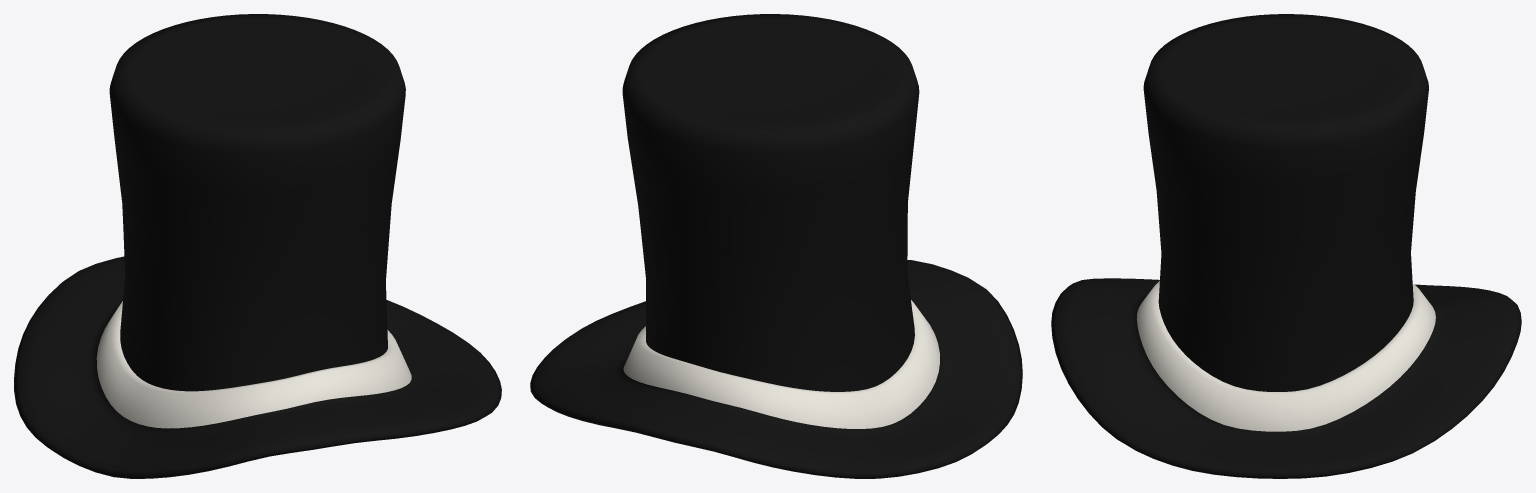
Rendered from Top Hat.fbx.
The picture shows the model from 3 angles, left to right: view 1: azimuth 30°, elevation 25°; view 2: azimuth 150°, elevation 25°; view 3: azimuth 270°, elevation 25°; orthographic projection. The views are drawn at different scales.
Parts seen in each view (by area): view 1: Hat, Ribbon; view 2: Hat, Ribbon; view 3: Hat, Ribbon.
Boxes of the visible parts, <box> form: Hat: <box>14,14,501,478</box>; Ribbon: <box>96,301,411,428</box>; Hat: <box>530,14,1022,478</box>; Ribbon: <box>623,300,939,428</box>; Hat: <box>1051,14,1521,478</box>; Ribbon: <box>1137,281,1435,431</box>.
Size of the model in its own units: 283 by 208 by 283.
1 material, 1 textured.
